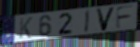2: (58, 12, 74, 36)
6: (38, 14, 54, 38)
F: (115, 4, 136, 31)
I: (84, 9, 91, 34)
K: (18, 16, 34, 39)
V: (95, 6, 117, 33)
